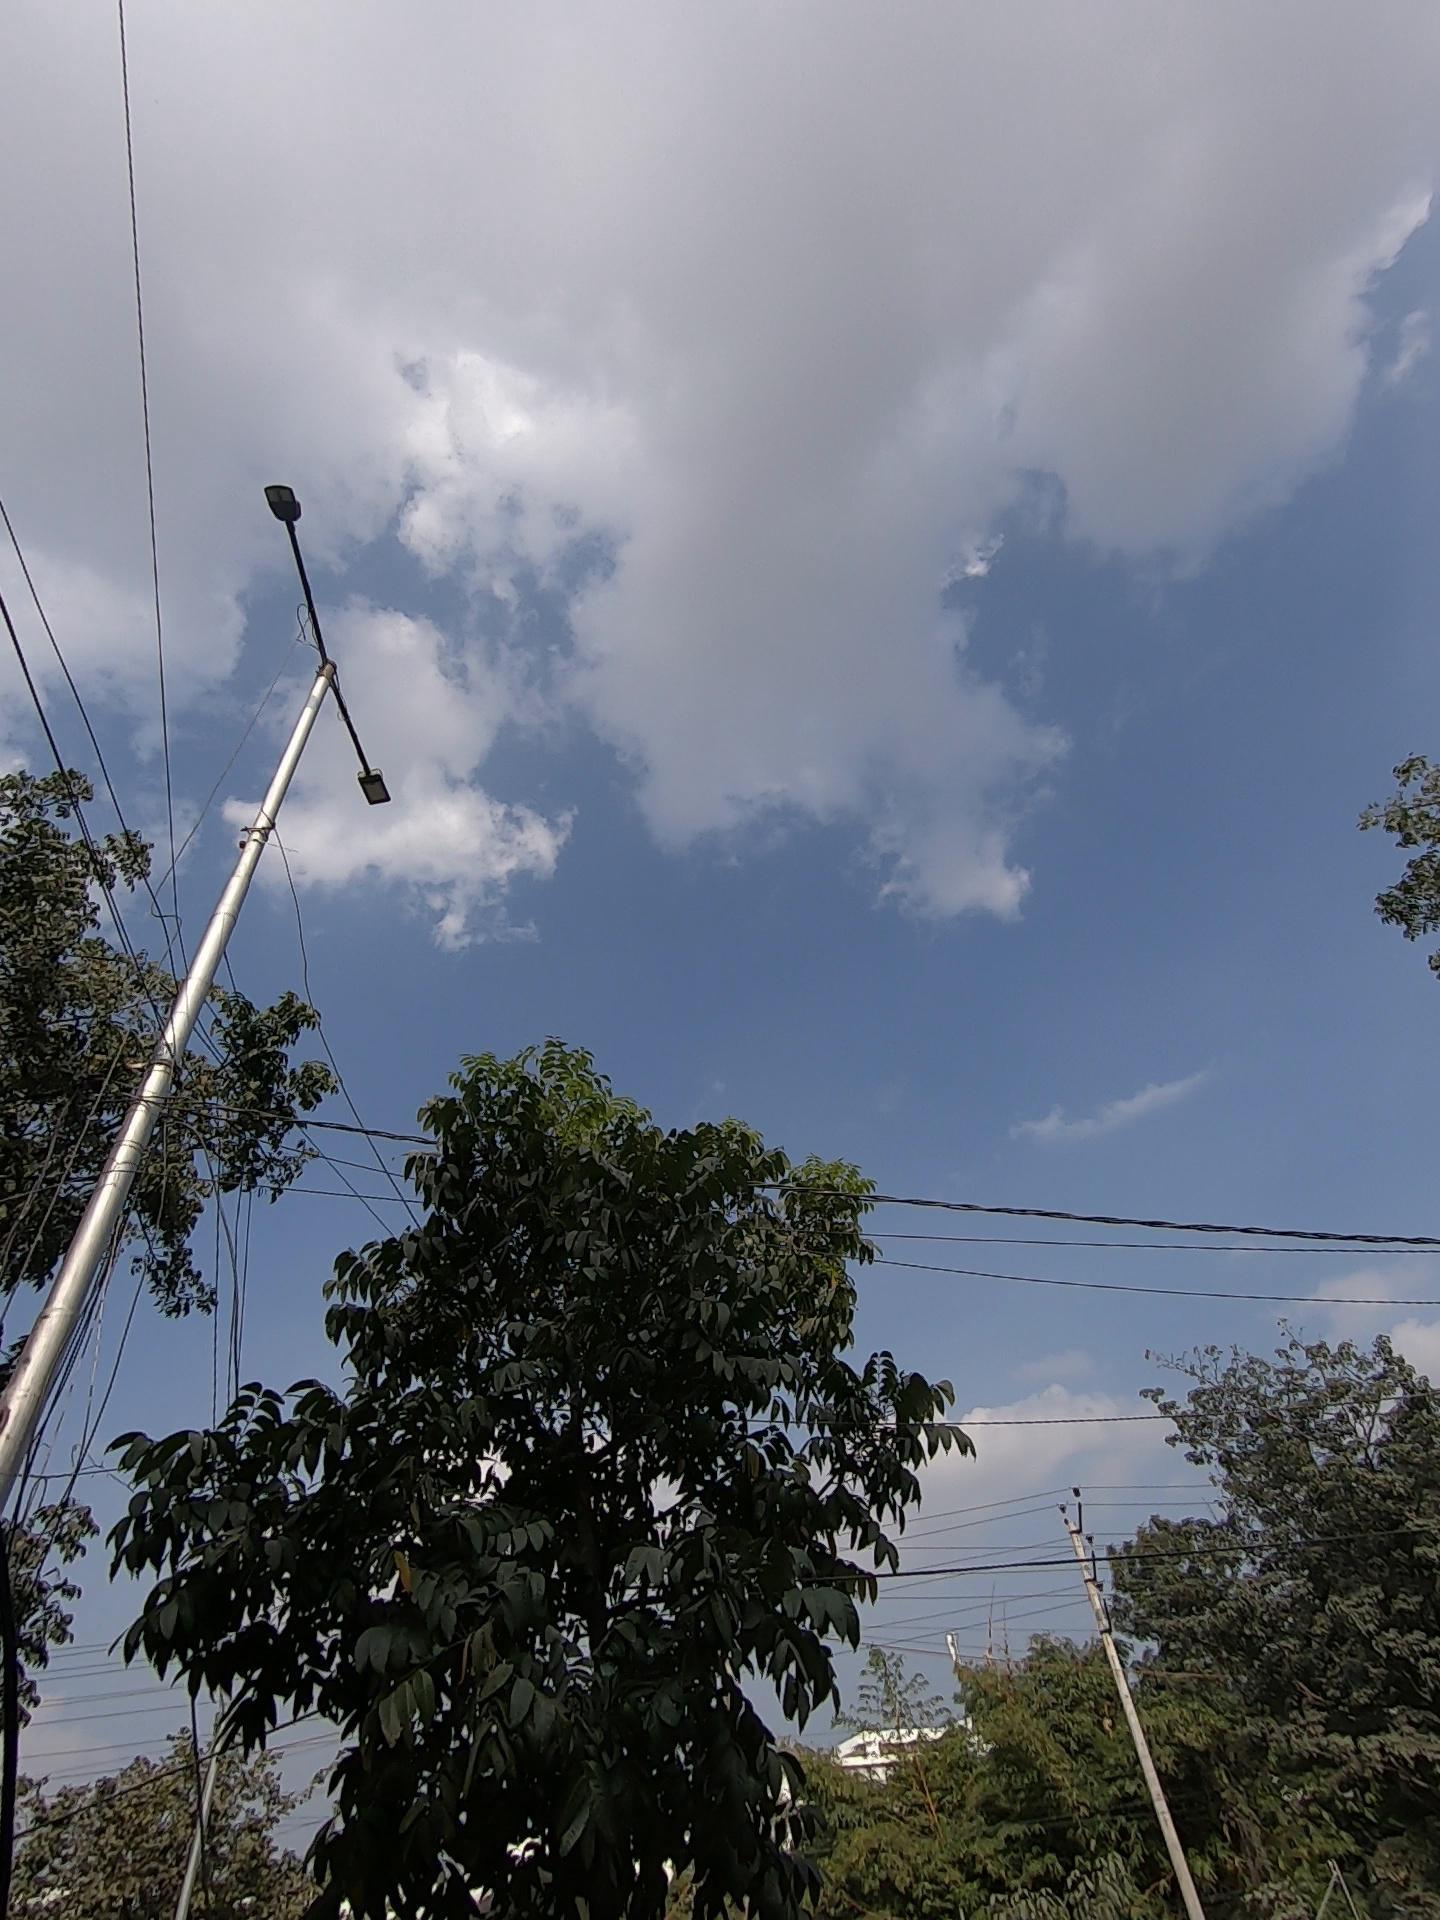off: (200, 396, 548, 807)
